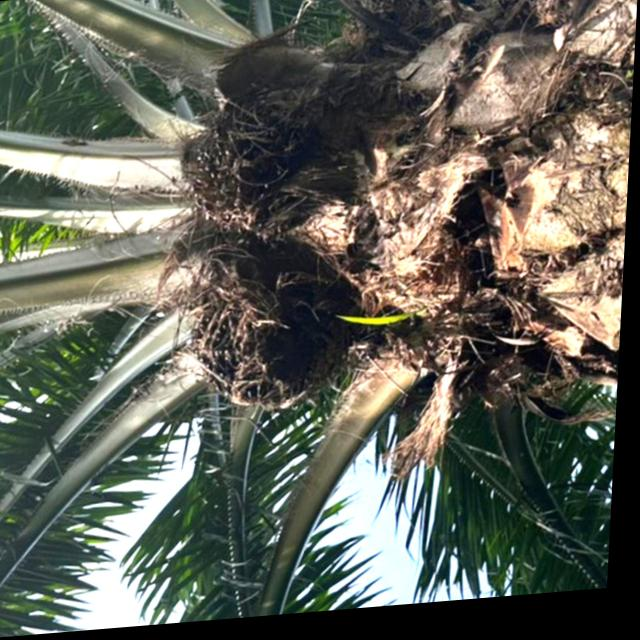unripe: (180, 239, 363, 423), (174, 62, 343, 241)
